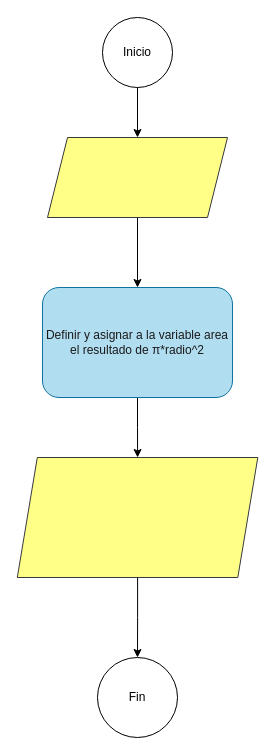
The diagram is 276 pixels wide and 755 high, and some of its shapes have lost their labels. Each missing label, with the centre of its shape:
Mostrar el mensaje: "El área del círculo de radio ", radio, "es: ", area: point (137, 517)
Mostrar mensaje: "Por favor, ingrese el radio del círculo: ": point (137, 177)
